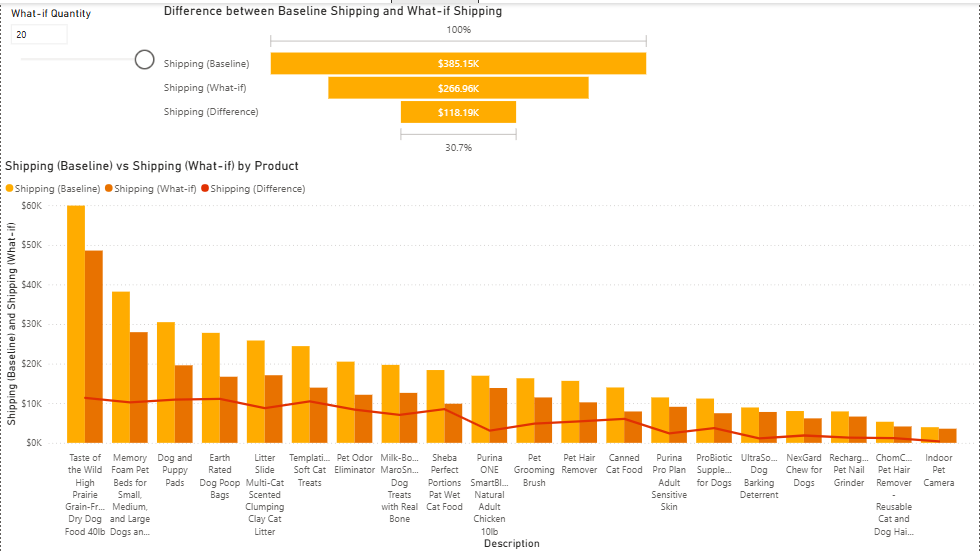

This screenshot's page, from the dashboard's own definition file:
{"tool":"powerbi","page":{"name":"Shipping Metrics 1","canvas":[1280,720],"ordinal":5},"visuals":[{"type":"slicer","fields":{"Values":["What-if Quantity.What-if Quantity"]},"box":[0,0,208.8,150.2],"z":0},{"type":"funnel","title":"Difference between Baseline Shipping and What-if Shipping","fields":{"Y":["Sales.Shipping (Baseline)","Sales.Shipping (What-if)","Sales.Shipping (Difference)"]},"box":[208.7,0,646.5,202.8],"z":1000},{"type":"lineClusteredColumnComboChart","title":"Shipping (Baseline) vs Shipping (What-if) by Product","fields":{"Category":["Sales.Description"],"Y":["Sales.Shipping (Baseline)","Sales.Shipping (What-if)"],"Y2":["Sales.Shipping (Difference)"]},"box":[0,202.8,1279.8,517.2],"z":2000}]}

Visuals, with their boxes in screenshot pixels (x1, y1, x2, y2), scaled from the page's 1280x720 canvas onto the 980x553 screenshot:
slicer - What-if Quantity.What-if Quantity: 0, 0, 160, 115
"Difference between Baseline Shipping and What-if Shipping" funnel: 160, 0, 655, 156
"Shipping (Baseline) vs Shipping (What-if) by Product" lineClusteredColumnComboChart: 0, 156, 979, 552
